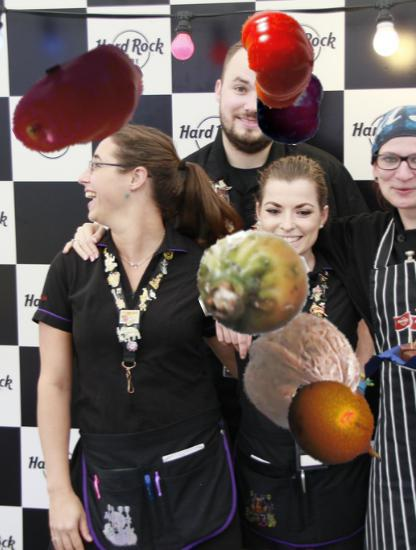Cactus: (196, 225, 310, 339)
Granadilla: (283, 372, 393, 482)
Plum: (251, 66, 330, 145)
Tomato: (7, 32, 150, 175), (226, 9, 327, 110)
Walnut: (242, 312, 365, 435)
